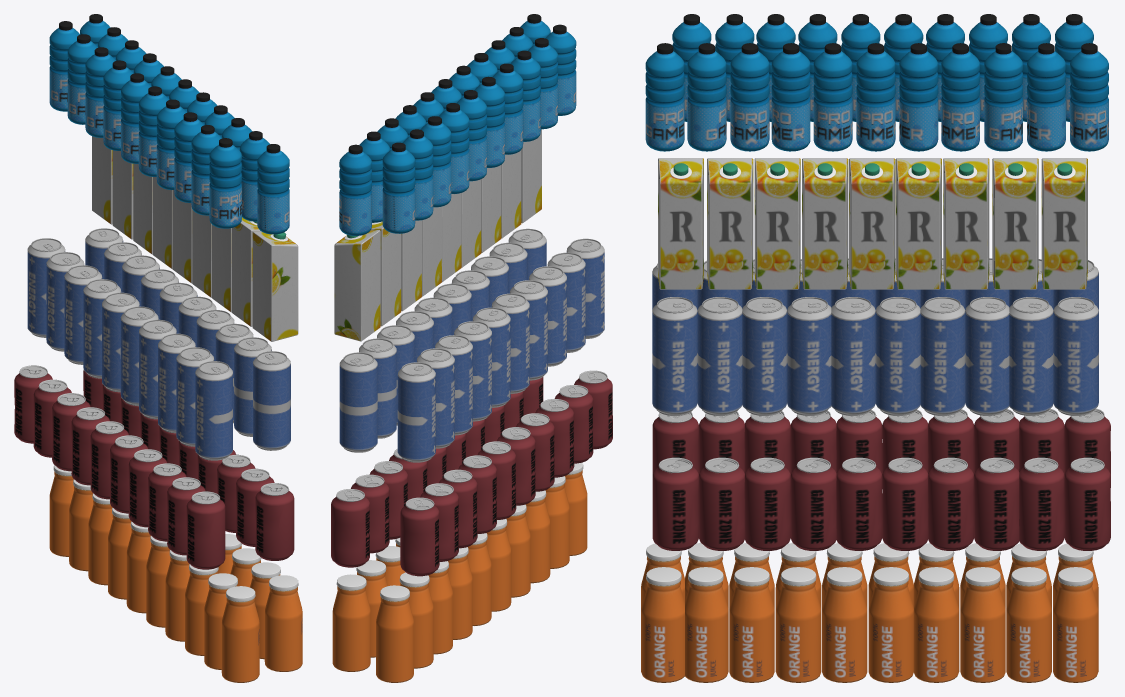
Rendered from SM_FridgeDrinks_01.fbx.
The picture shows the model from 3 angles, left to right: view 1: azimuth 30°, elevation 25°; view 2: azimuth 150°, elevation 25°; view 3: azimuth 270°, elevation 25°; orthographic projection. The views are drawn at different scales.
Visible parts, largest first — view 1: SM_FridgeDrinks_01_LOD0; view 2: SM_FridgeDrinks_01_LOD0; view 3: SM_FridgeDrinks_01_LOD0.
Boxes of the visible parts, <box> form: SM_FridgeDrinks_01_LOD0: <box>14,14,302,682</box>; SM_FridgeDrinks_01_LOD0: <box>331,14,612,682</box>; SM_FridgeDrinks_01_LOD0: <box>641,14,1110,682</box>.
Size of the model in its own units: 22.19 by 71.27 by 106.
Materials: 1 (1 with a texture image).
